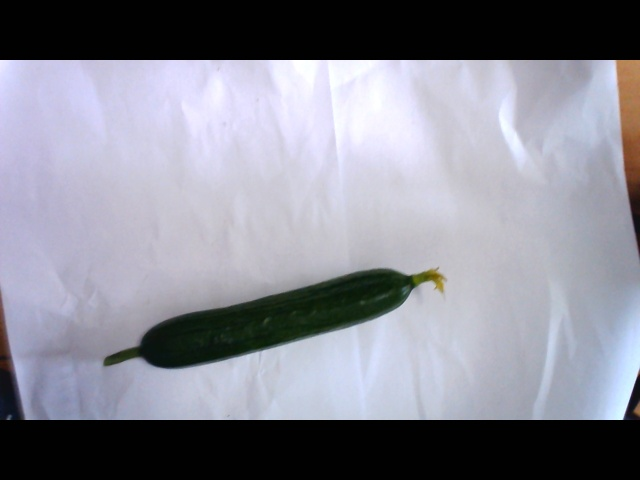cucumber: (103, 257, 453, 371)
